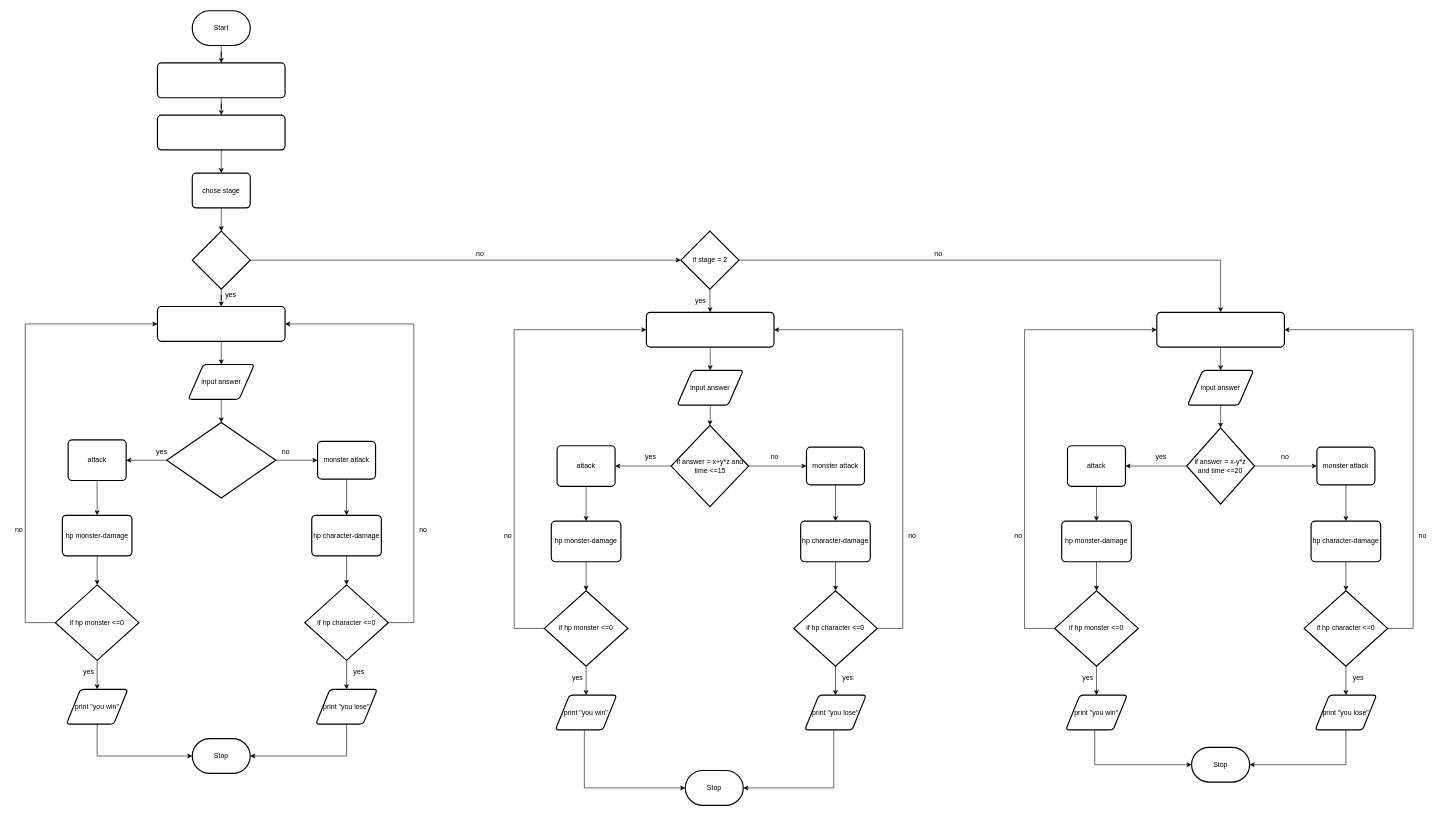
This 1441x815 diagram has some shape labels left out. The box of each missing label's shape, as (x1, y1, x2, y2) in pixels:
choose game 2: (157, 114, 285, 150)
if answer = x+y-z and time <=10: (166, 422, 276, 498)
if stage = 1: (191, 230, 251, 289)
main,menu.login: (157, 62, 285, 98)
random x+y*z: (646, 311, 774, 347)
random x+y-z: (157, 306, 285, 342)
random x-y*z: (1156, 311, 1285, 347)
